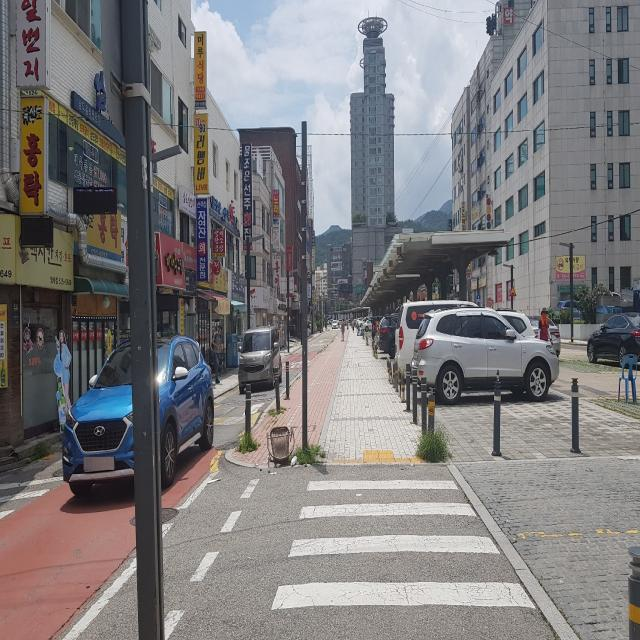횡단보도: (272, 477, 538, 610)
